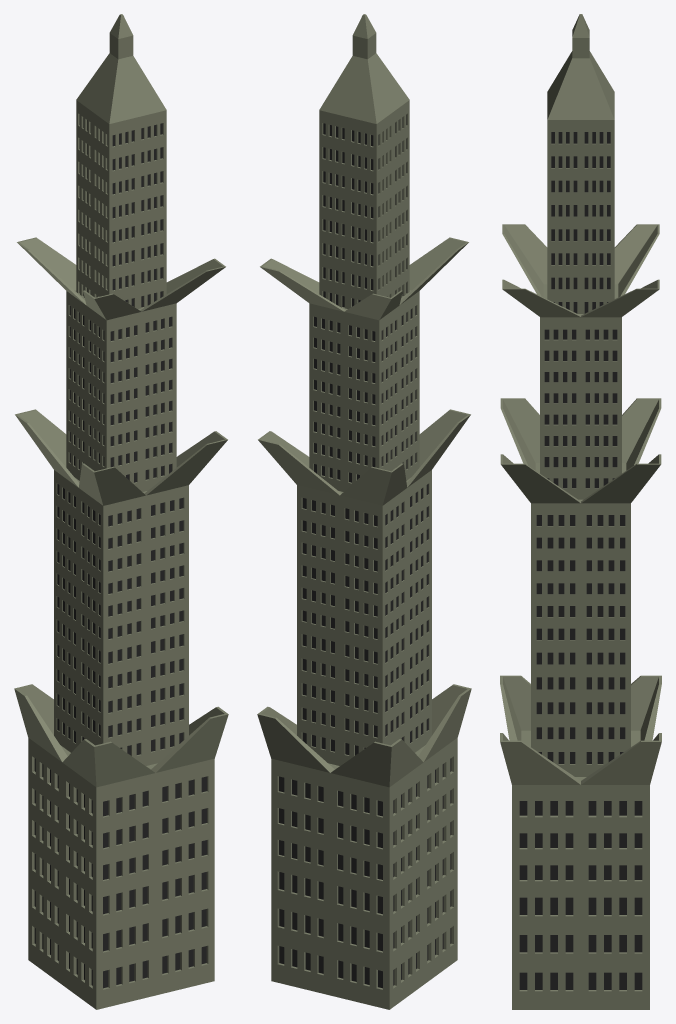
File: tower_2.fbx
The picture shows the model from 3 angles, left to right: view 1: azimuth 30°, elevation 25°; view 2: azimuth 150°, elevation 25°; view 3: azimuth 270°, elevation 25°; orthographic projection.
Parts seen in each view (by area): view 1: Cube; view 2: Cube; view 3: Cube.
Boxes of the visible parts, <box> form: Cube: <box>14,14,228,1009</box>; Cube: <box>257,14,471,1009</box>; Cube: <box>500,14,661,1009</box>.
Size of the model in its own units: 1870 by 12698 by 1927.
